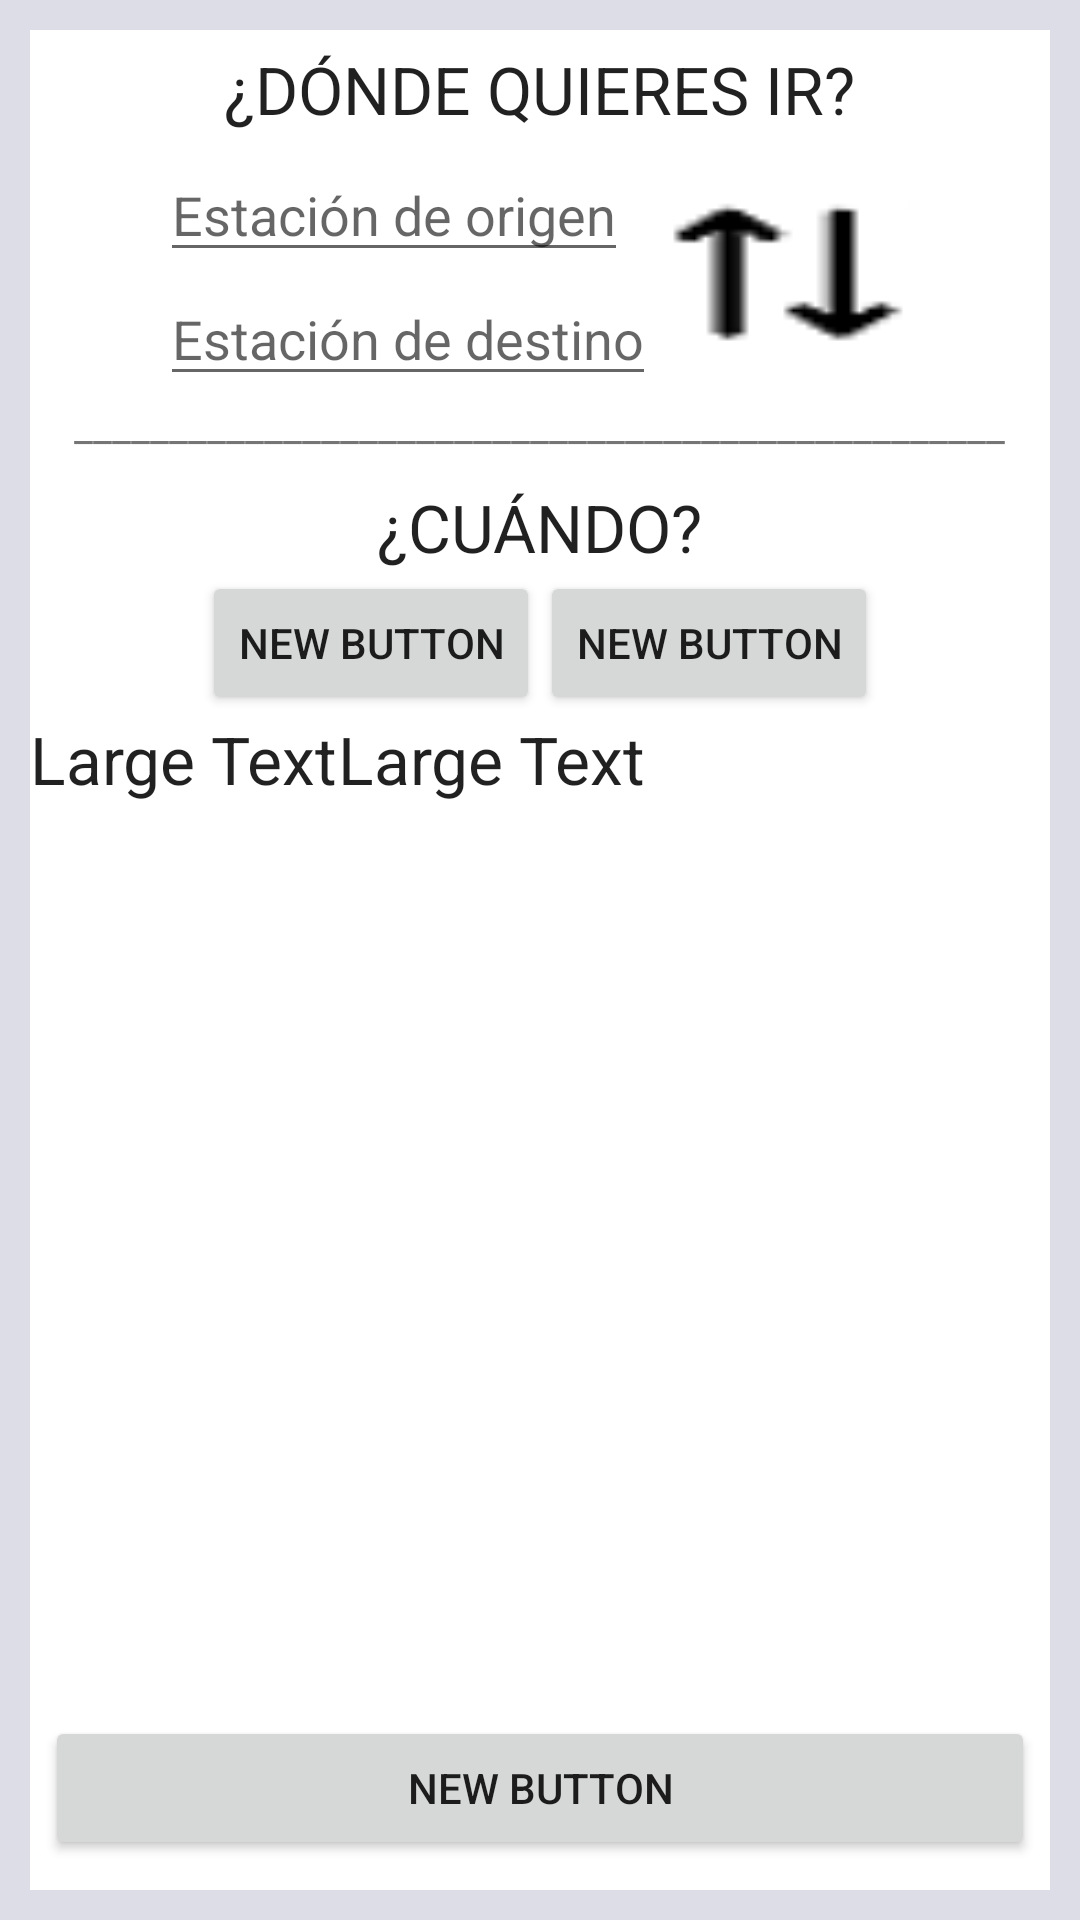

Icon click points for this 1080px x 1920px phone screenshot, format (x,y):
arrow: (788,273)
